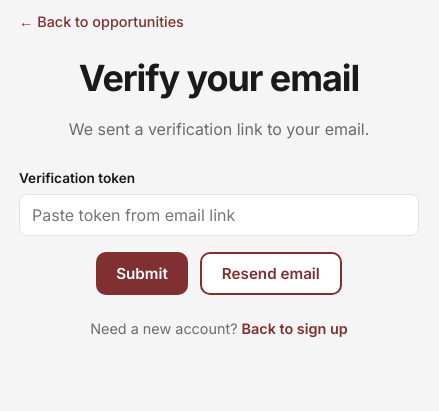
VerifyEmailPage › submits a pasted token from the form
Type " pasted-token-1 " into the field labelled "Verification token" at (219, 215), box [19, 194, 419, 236]
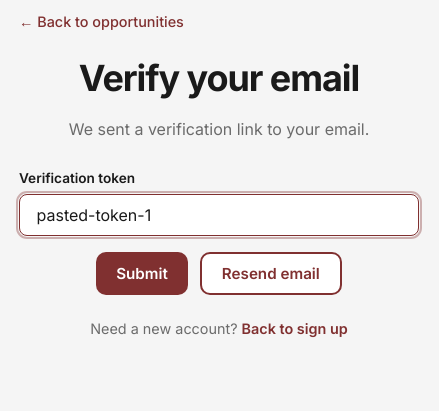
Click the button "Submit" at (142, 274), box [96, 252, 188, 295]
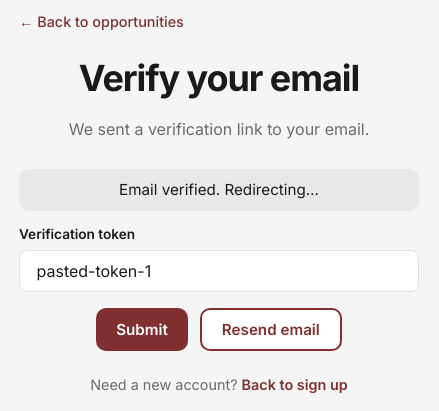
Now the text "Email verified. Redirecting…" is shown, box [19, 169, 419, 211]
